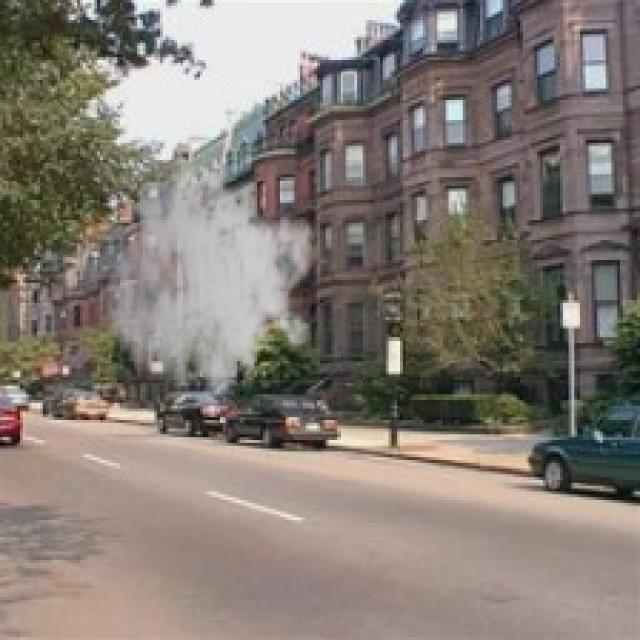smoke: (106, 151, 320, 423)
